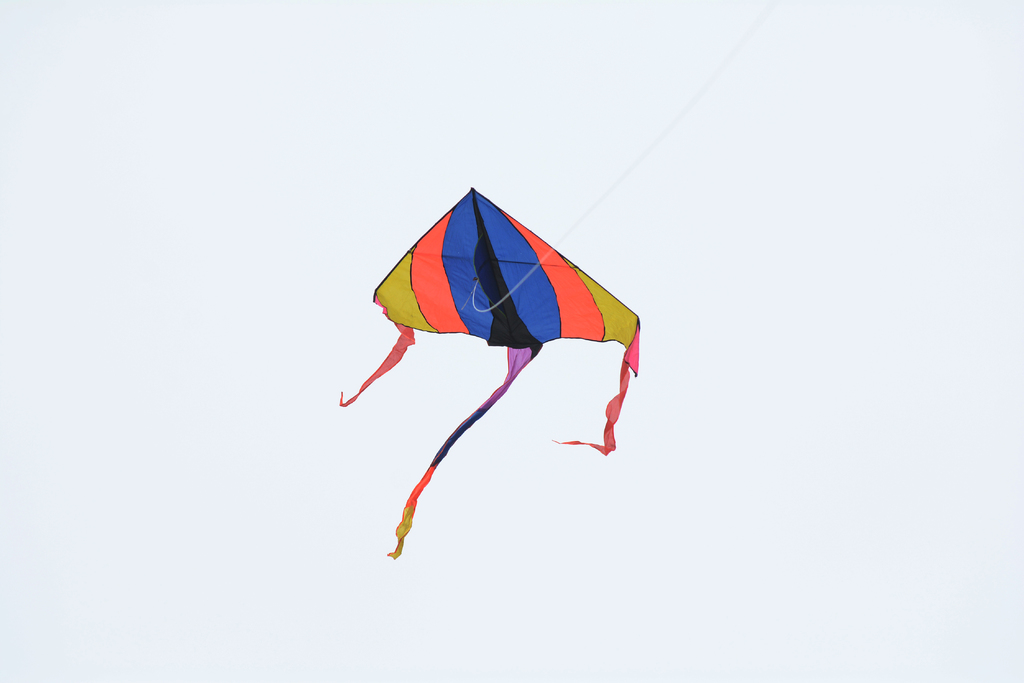kite: (327, 180, 654, 569)
